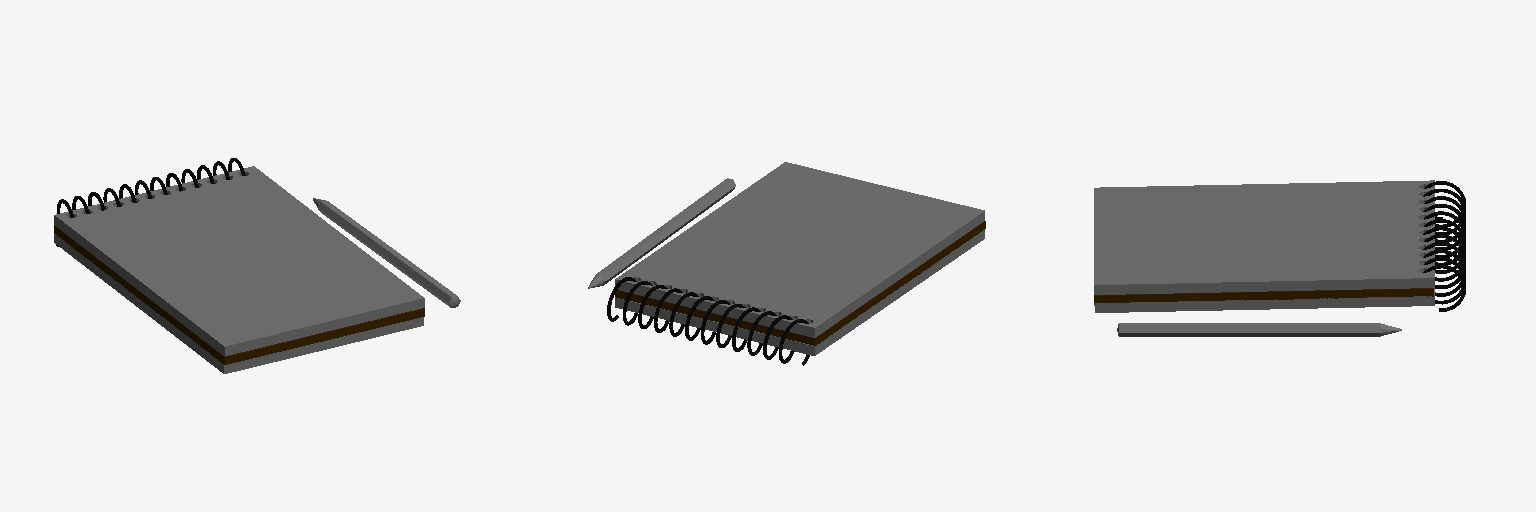
The model's file is draft.obj.
3 views of the same model, side by side, from view 1: azimuth 30°, elevation 25°; view 2: azimuth 150°, elevation 25°; view 3: azimuth 270°, elevation 25° (orthographic).
Visible parts, largest first — view 1: WiredPages, WiredPages02, BlockCover, Pencil, SpiralSmallW; view 2: WiredPages, WiredPages02, SpiralSmallW, BlockCover, Pencil; view 3: WiredPages, Pencil, WiredPages02, SpiralSmallW, BlockCover.
Part boxes in pixels (left/top/right/bottom): WiredPages: left=54, top=166, right=424, bottom=356; WiredPages02: left=54, top=233, right=423, bottom=373; BlockCover: left=54, top=225, right=424, bottom=364; Pencil: left=313, top=198, right=460, bottom=307; SpiralSmallW: left=56, top=158, right=245, bottom=246; WiredPages: left=615, top=162, right=984, bottom=337; WiredPages02: left=615, top=230, right=984, bottom=355; SpiralSmallW: left=607, top=277, right=809, bottom=365; BlockCover: left=615, top=221, right=985, bottom=345; Pencil: left=588, top=178, right=735, bottom=288; WiredPages: left=1094, top=180, right=1434, bottom=294; Pencil: left=1117, top=323, right=1401, bottom=336; WiredPages02: left=1094, top=288, right=1434, bottom=312; SpiralSmallW: left=1423, top=181, right=1465, bottom=311; BlockCover: left=1094, top=288, right=1433, bottom=303.
Size of the model in its own units: 165 by 27.55 by 214.